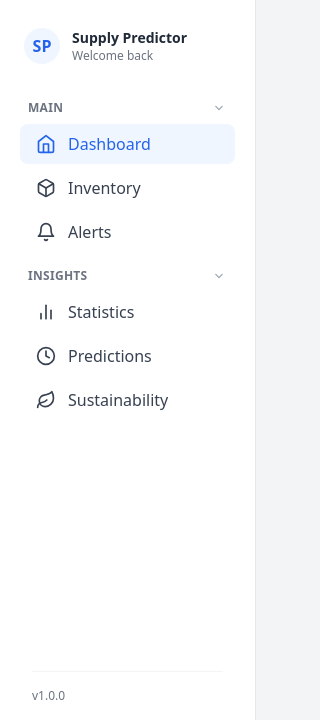
Test case: sidebar navigation › the active item is marked for assistive tech
Click the menu item "Inventory" at (88, 188), box x1=36 y1=177 x2=141 y2=199
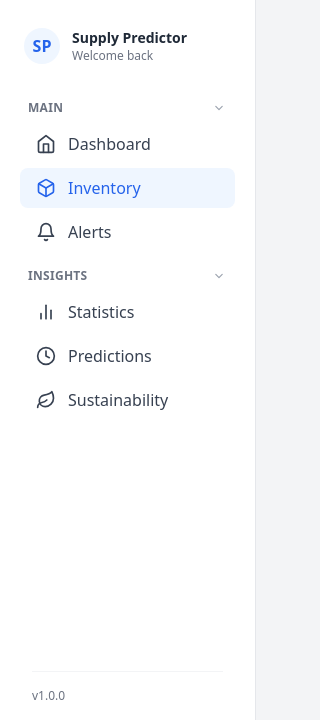
Now the menu item "Inventory" is marked as current, box x1=20 y1=168 x2=235 y2=208
